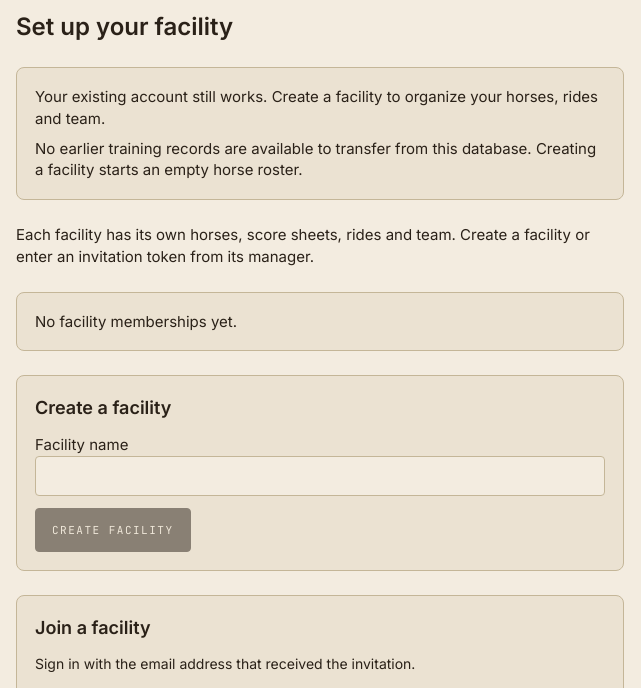
Test: keeps the same request ID after a failed import and does not advance
The image size is (641, 688).
Later steps or results of the test are not shown.
Type "Facility" into the field labelled "Facility name" at (320,476), box [35,456,605,496]
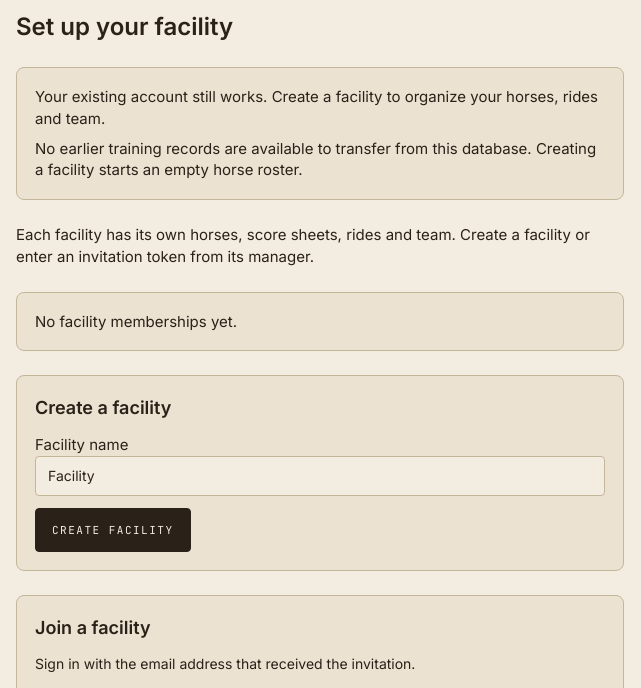
Click the button "Create facility" at (113,530), box [35,508,190,552]
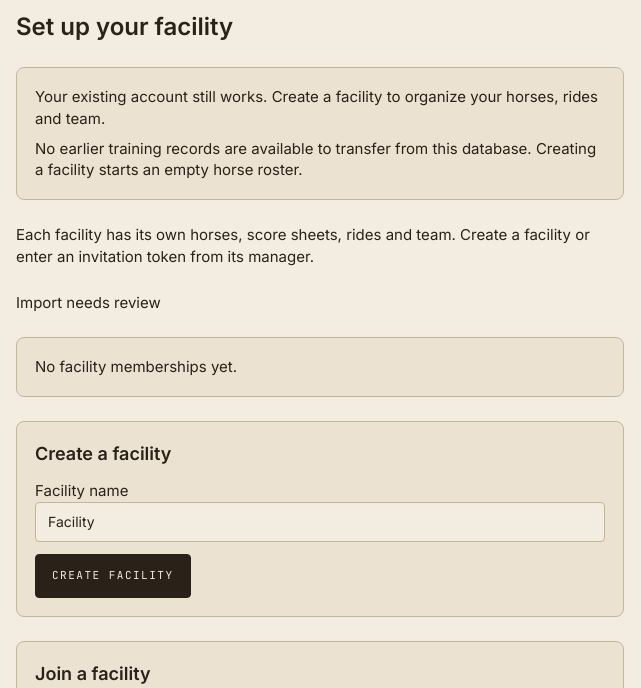
expect the text "Import needs review" is shown: met, box [16,292,161,312]
